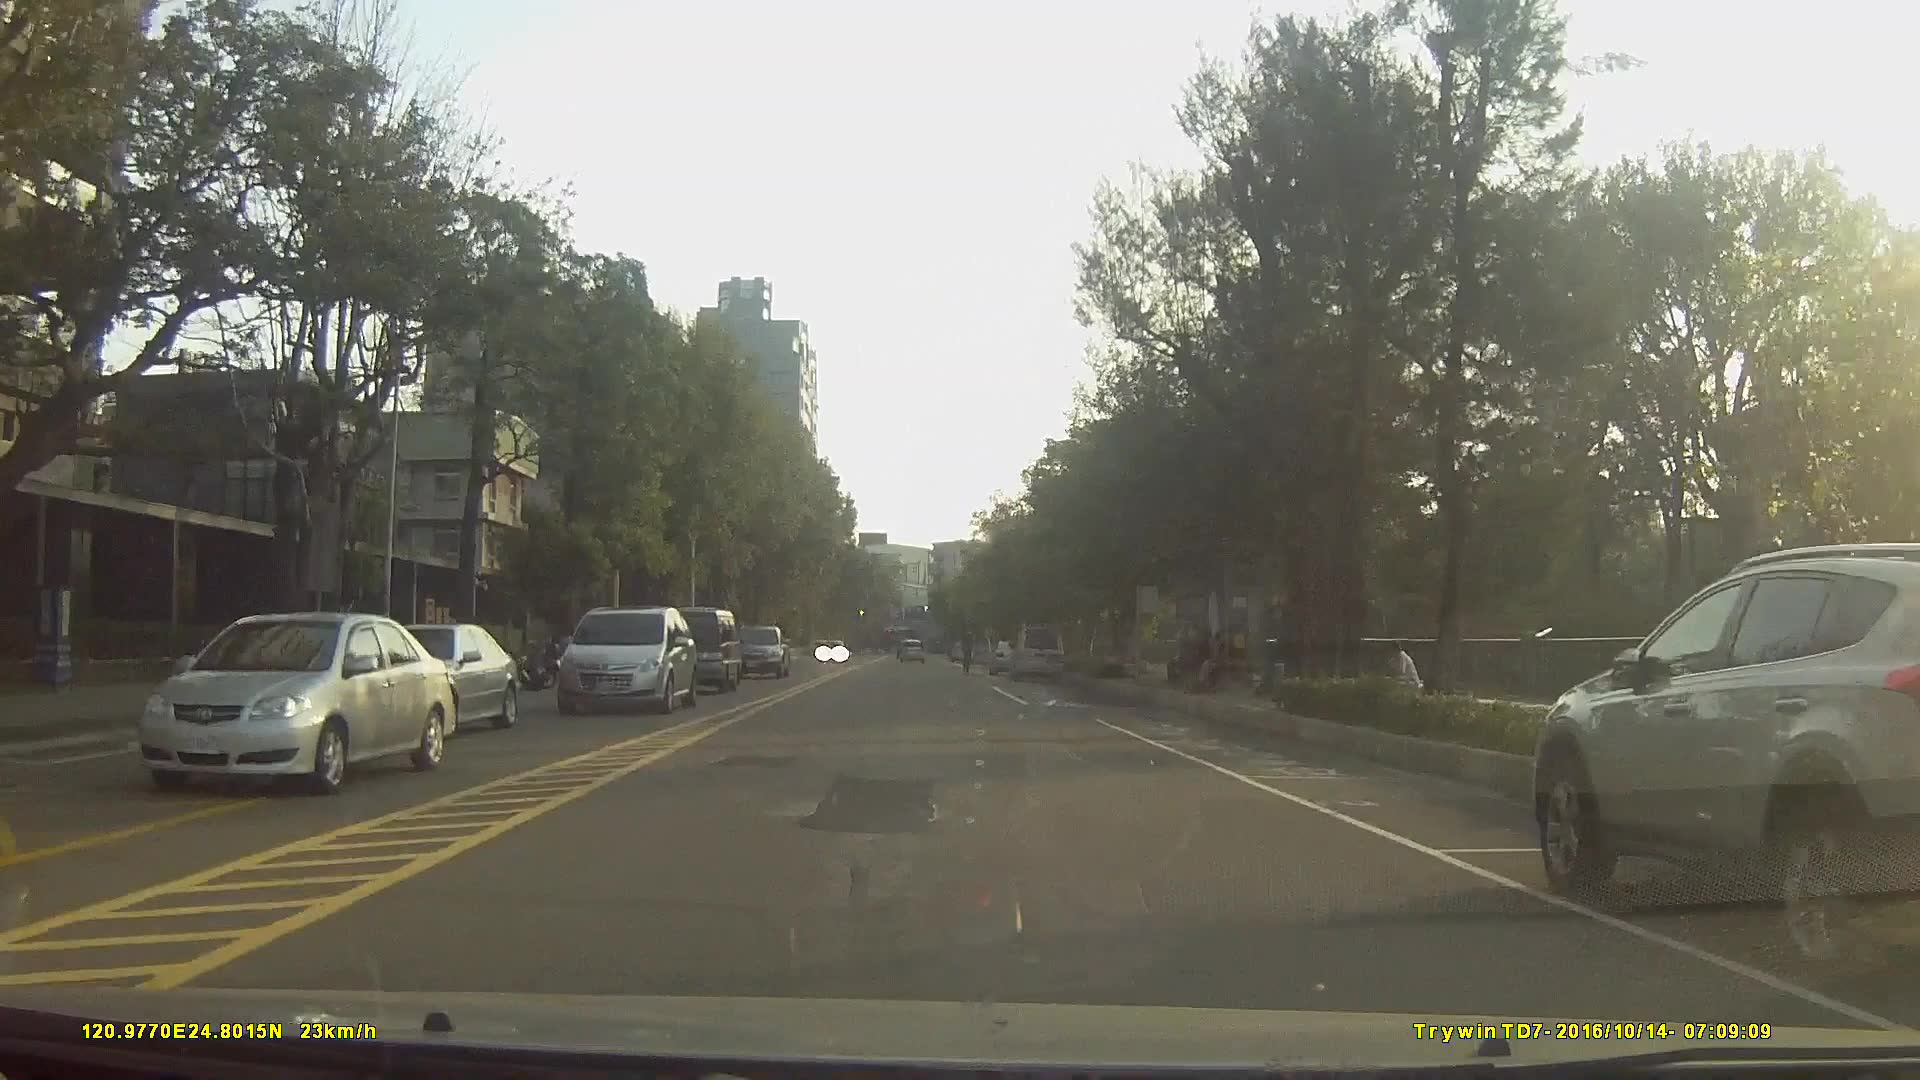rider: (958, 632, 978, 677)
vehicle: (1529, 540, 1920, 985), (138, 609, 456, 796), (359, 622, 520, 740), (553, 606, 699, 717), (646, 605, 739, 692), (1005, 623, 1066, 684), (727, 624, 788, 678), (989, 636, 1026, 676), (895, 636, 925, 664)
